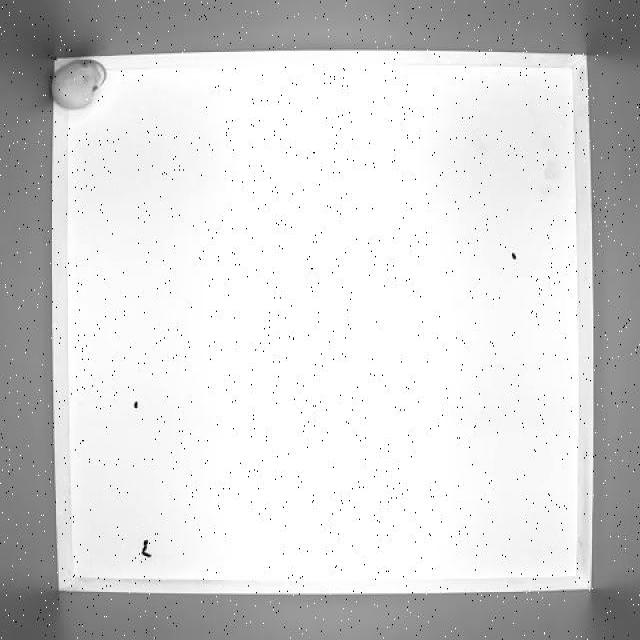rat: (50, 56, 110, 111)
